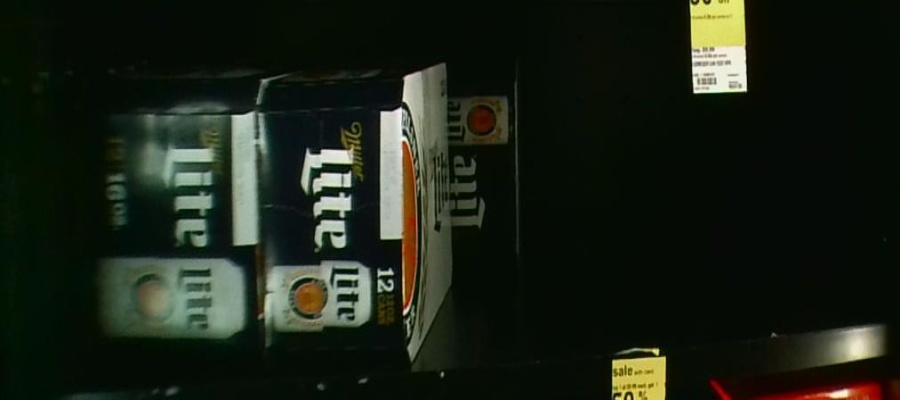bottle: (259, 67, 449, 351), (93, 70, 260, 350), (449, 72, 519, 251)
